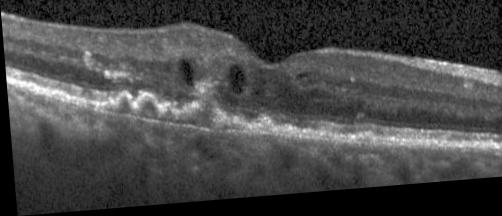intraretinal_cyst: (228, 69, 244, 99), (178, 62, 192, 89), (292, 77, 307, 87), (248, 96, 257, 100)
retinal_drusen: (177, 105, 214, 129), (221, 122, 242, 136), (137, 104, 154, 120), (252, 123, 270, 138), (116, 98, 129, 115), (275, 131, 293, 139), (159, 111, 171, 122), (351, 140, 368, 147)
